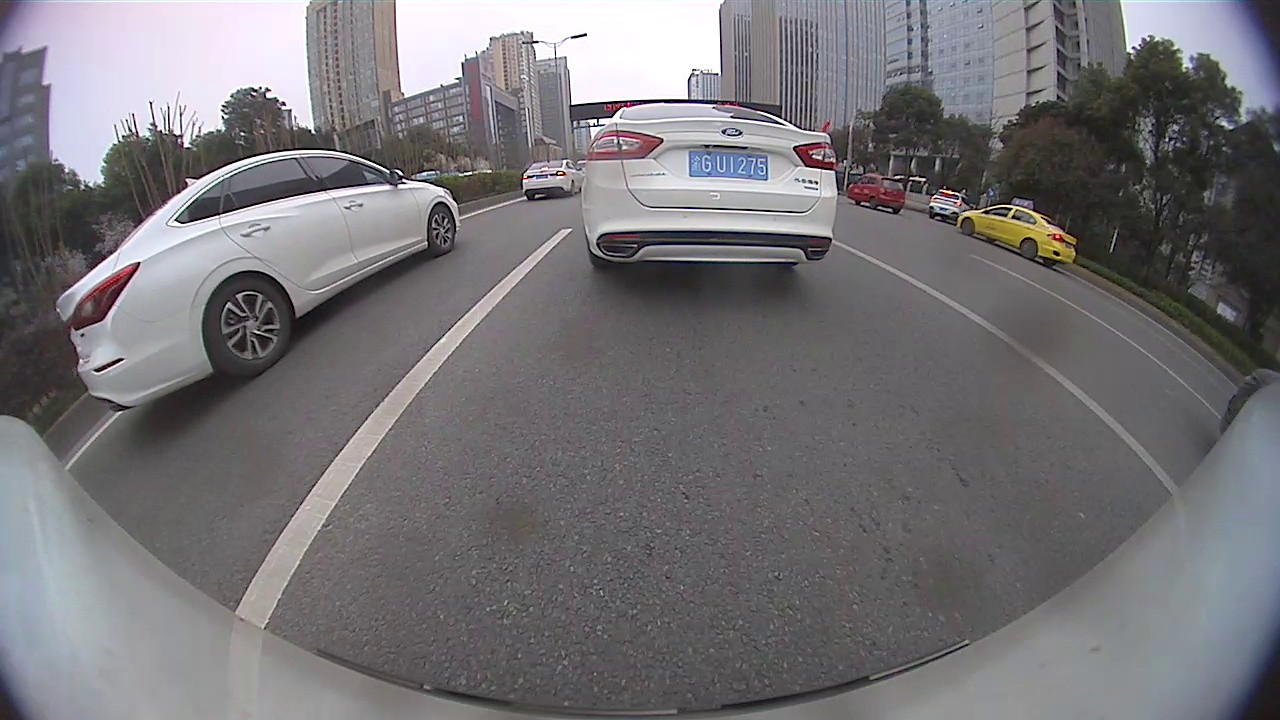car: (56, 147, 461, 414), (579, 101, 839, 269), (956, 197, 1078, 269), (1219, 367, 1279, 436), (845, 171, 907, 216), (521, 159, 585, 202), (928, 188, 976, 223)
front: (426, 201, 459, 258), (960, 215, 978, 240)
rear: (202, 274, 296, 374), (1016, 235, 1039, 261)
